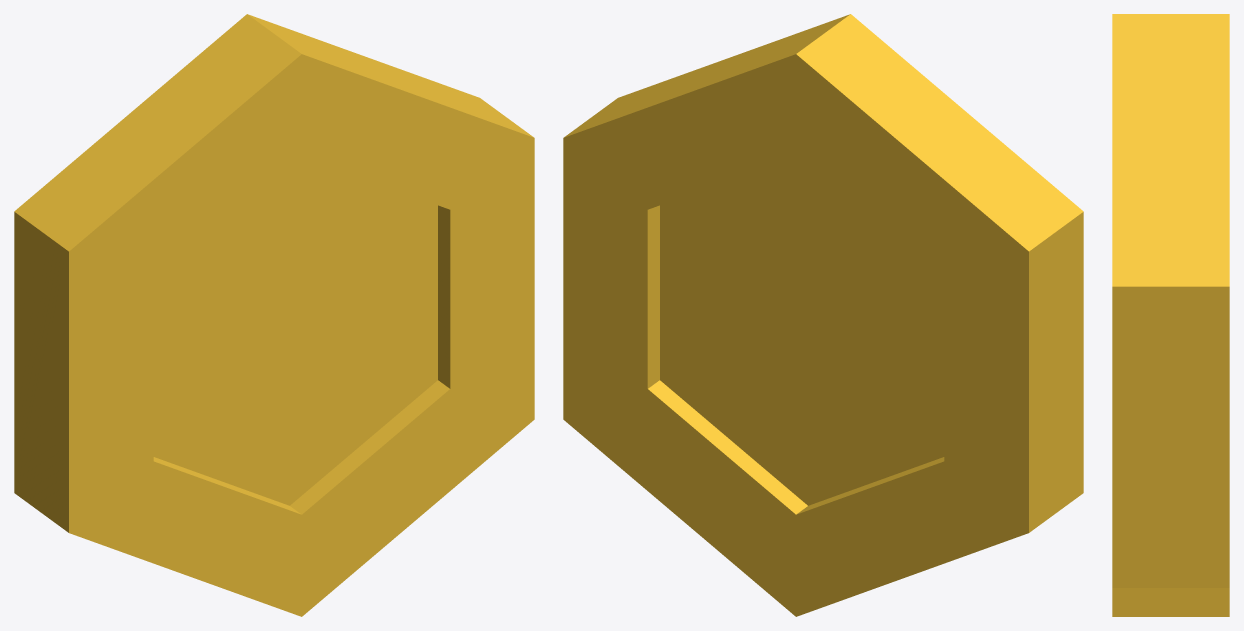
Rendered from coin-001.glb.
3 views of the same model, side by side, from view 1: azimuth 30°, elevation 25°; view 2: azimuth 150°, elevation 25°; view 3: azimuth 270°, elevation 25° (orthographic). The views are drawn at different scales.
Visible parts, largest first — view 1: Coin.001; view 2: Coin.001; view 3: Coin.001.
Part boxes in pixels (x1,y1,x2,y2): Coin.001: [14, 14, 534, 616]; Coin.001: [563, 14, 1083, 616]; Coin.001: [1112, 14, 1229, 616].
Bounding box in the file's own units: 2 × 2.31 × 0.4074.
